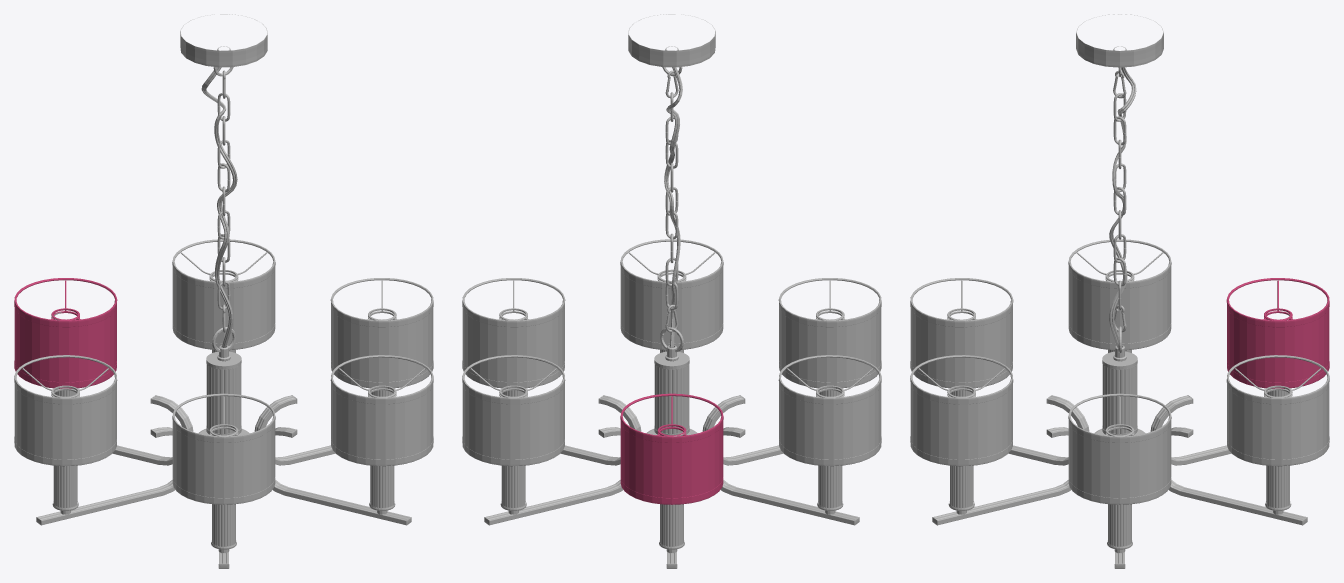
Rendered from interactive_10_1.glb.
3 views of the same model, side by side, from view 1: azimuth 30°, elevation 25°; view 2: azimuth 150°, elevation 25°; view 3: azimuth 270°, elevation 25° (orthographic).
Parts seen in each view (by area): view 1: pred_target_mesh.ply; view 2: pred_target_mesh.ply; view 3: pred_target_mesh.ply.
Boxes of the visible parts, <box> form: pred_target_mesh.ply: <box>14,14,433,568</box>; pred_target_mesh.ply: <box>462,14,881,568</box>; pred_target_mesh.ply: <box>910,14,1329,568</box>.
Size of the model in its own units: 0.5867 by 0.6166 by 0.5251.
